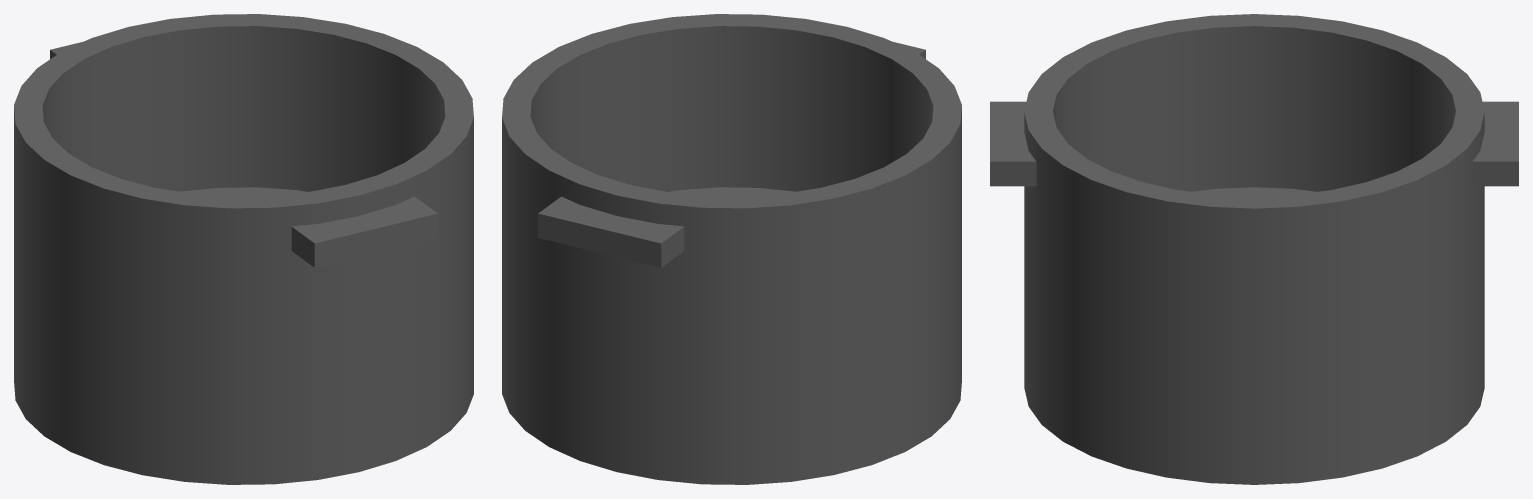
Rendered from pot.glb.
3 renders of one model, left to right at view 1: azimuth 30°, elevation 25°; view 2: azimuth 150°, elevation 25°; view 3: azimuth 270°, elevation 25°, orthographic.
Parts seen in each view (by area): view 1: Cylinder, Cube; view 2: Cylinder, Cube; view 3: Cylinder, Cube.
Boxes of the visible parts, left/top/right/bottom form: Cylinder: left=14, top=14, right=473, bottom=484; Cube: left=50, top=42, right=437, bottom=267; Cylinder: left=502, top=14, right=961, bottom=484; Cube: left=538, top=42, right=925, bottom=267; Cylinder: left=1024, top=14, right=1484, bottom=484; Cube: left=990, top=101, right=1518, bottom=186.
Size of the model in its own units: 1.2 by 0.7953 by 1.38.
Materials: 1 (1 with a texture image).
